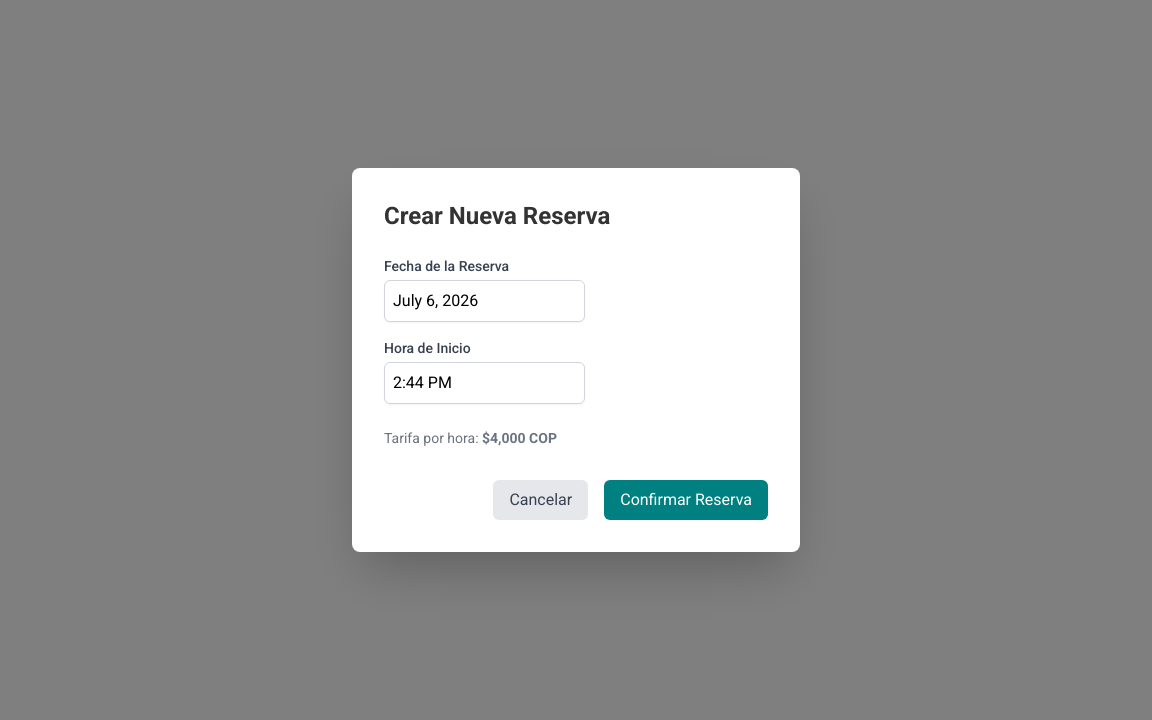
Test: Componente - CreateReservationModal › debe mostrar un mensaje de error si el envío del formulario falla
The image size is (1152, 720).
Click the button "Confirmar Reserva".
click(686, 500)  # box [604,480,768,520]
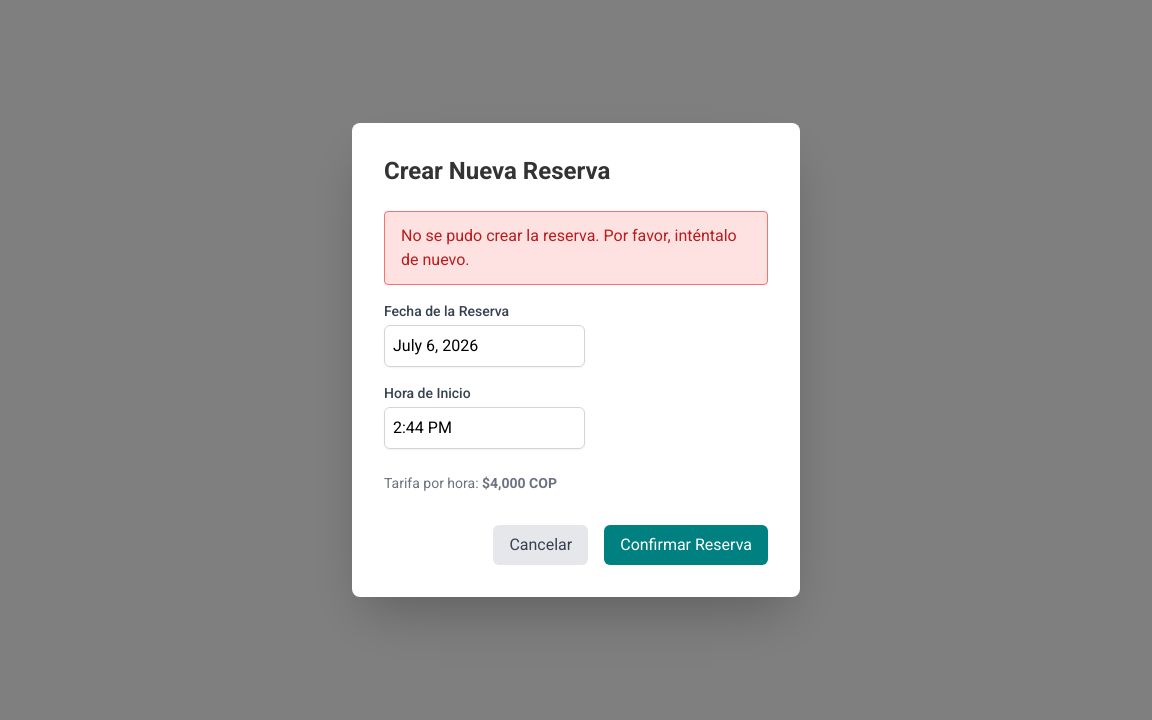
Check: the button "Confirmar Reserva" is enabled, box [604,525,768,565]
Check: the text "No se pudo crear la reserva. Por favor, inténtalo de nuevo." is shown, box [401,226,737,269]
